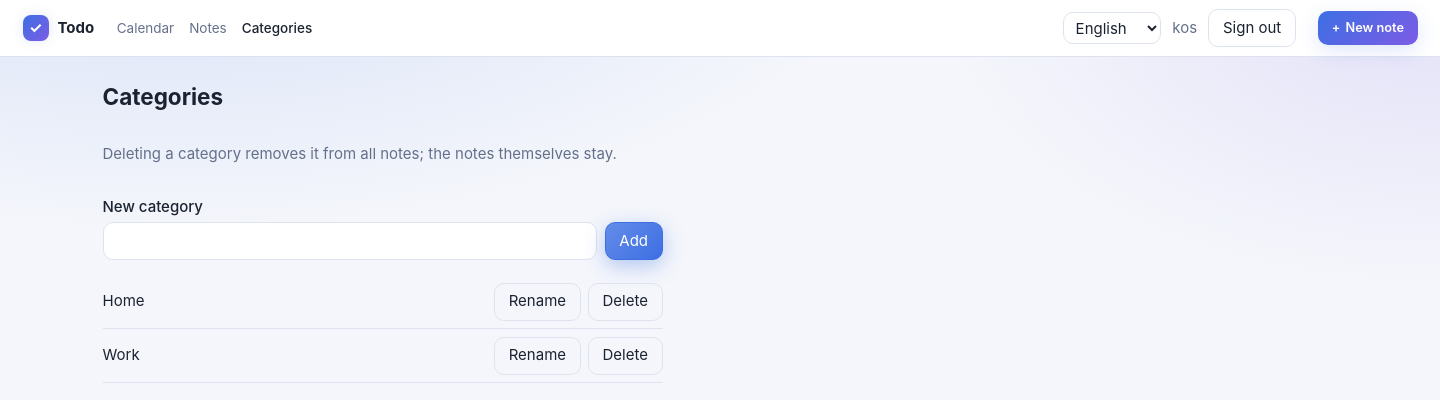
Test: categories › deletes a category only after a second confirmation
Click the button "Delete" in the row of "Home" at [625, 302], box [588,282,662,320]
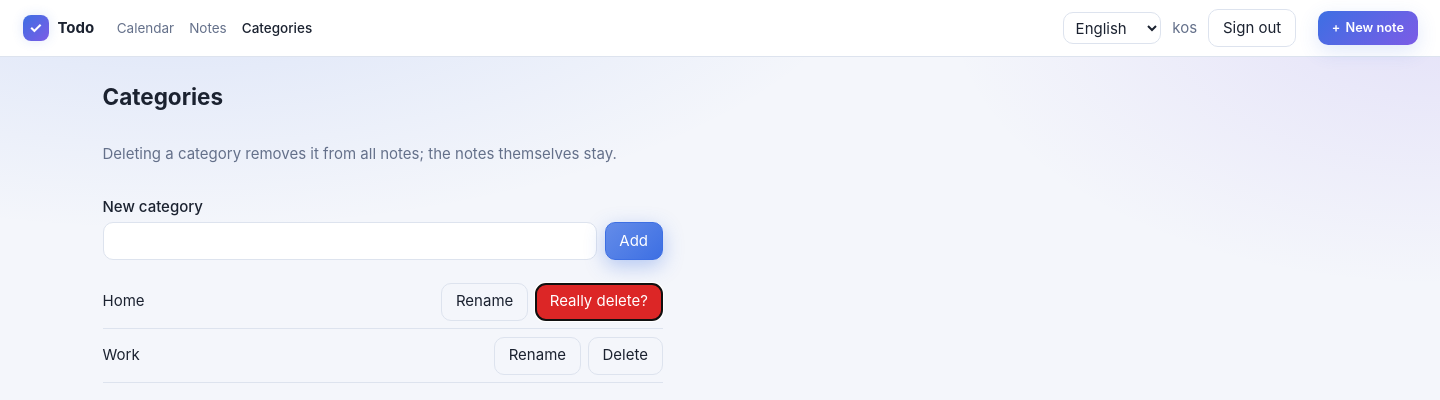
Click the button "Really delete?" at [599, 302], box [535,282,662,320]
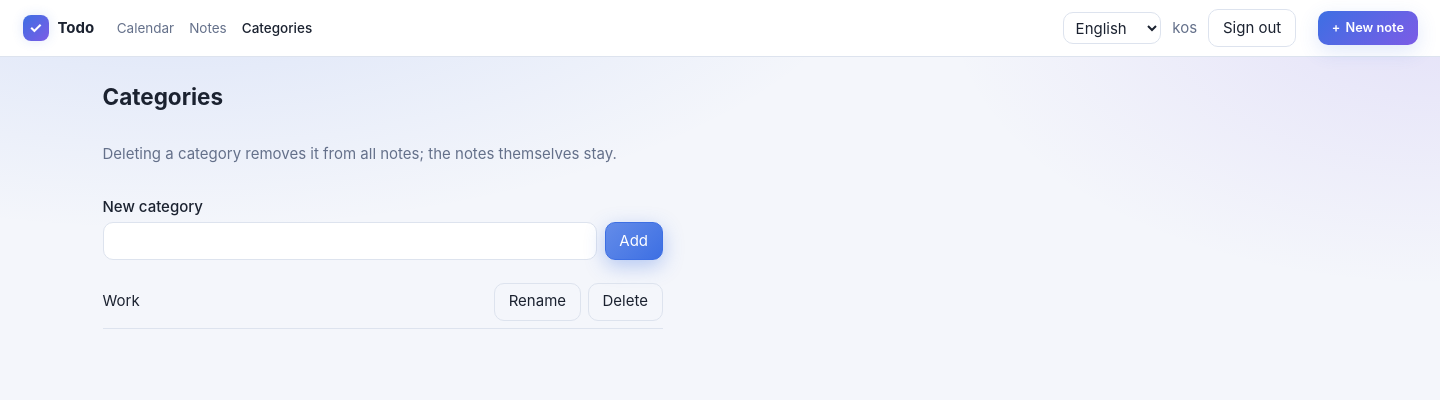
Check: the text "Work" is shown, box [102,291,140,310]
Check: the text "Home" is gone
